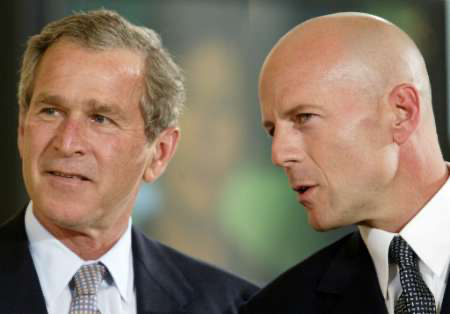Face: (12, 54, 152, 233), (253, 64, 387, 229)
